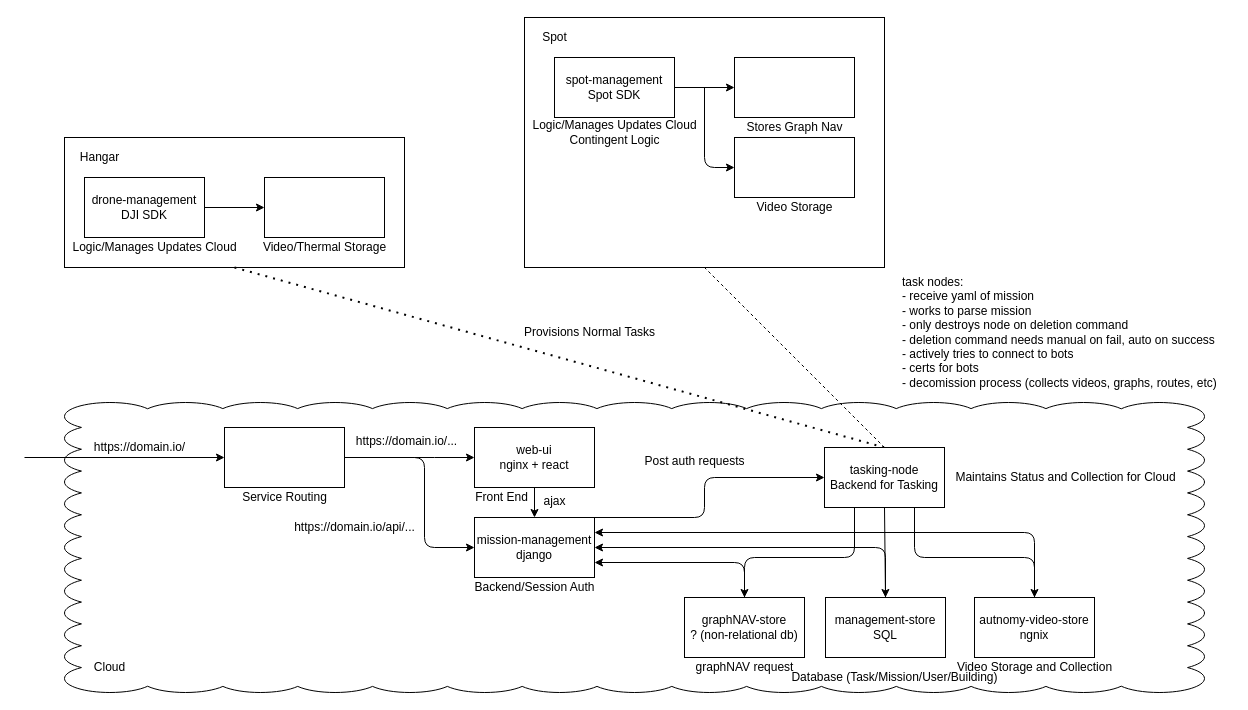
The diagram is 1248 pixels wide and 710 high, and some of its shapes have lost their labels. Each missing label, with the box of its shape:
service-balance nginx: (224, 426, 344, 488)
temp-nav-store Redis for non-persistence: (734, 56, 854, 118)
temp-video-store nginx: (734, 136, 854, 198)
temp-video-store Video/Thermal Storage: (264, 176, 384, 238)
